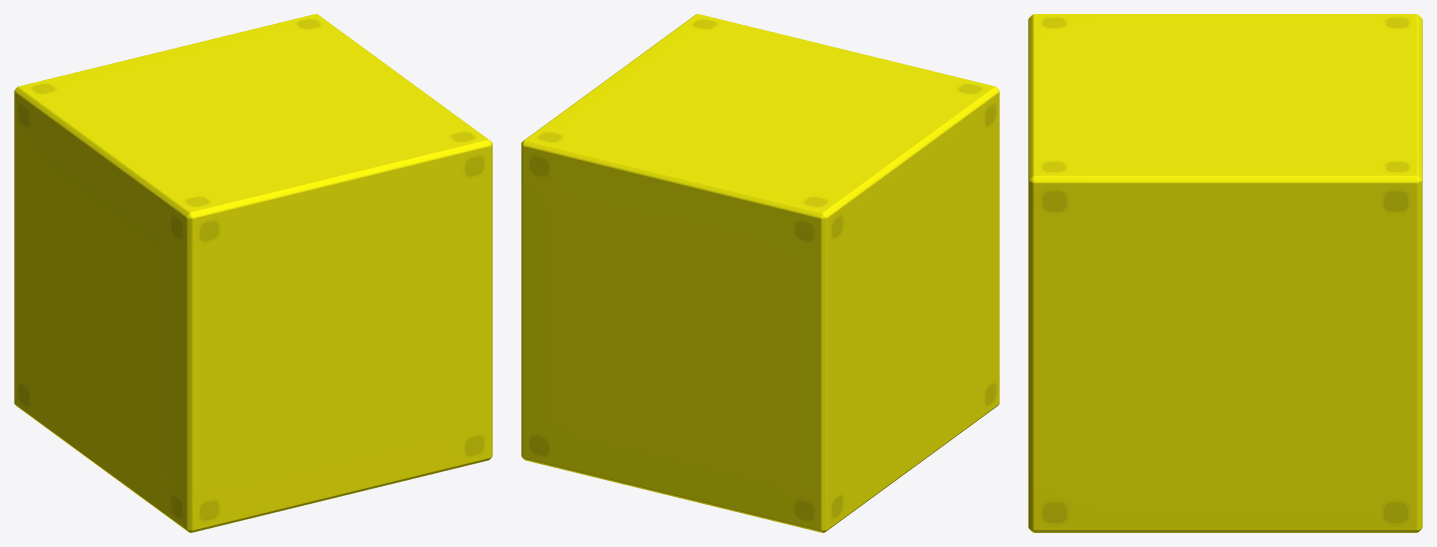
Rendered from WorkBlockBig.fbx.
3 renders of one model, left to right at view 1: azimuth 30°, elevation 25°; view 2: azimuth 150°, elevation 25°; view 3: azimuth 270°, elevation 25°, orthographic. The views are drawn at different scales.
Parts seen in each view (by area): view 1: WorkBlock7; view 2: WorkBlock7; view 3: WorkBlock7.
Boxes of the visible parts, x1=… form: WorkBlock7: x1=14, y1=14, x2=492, y2=532; WorkBlock7: x1=521, y1=14, x2=999, y2=532; WorkBlock7: x1=1028, y1=14, x2=1422, y2=532.
Bounding box in the file's own units: 2 × 2 × 2.
